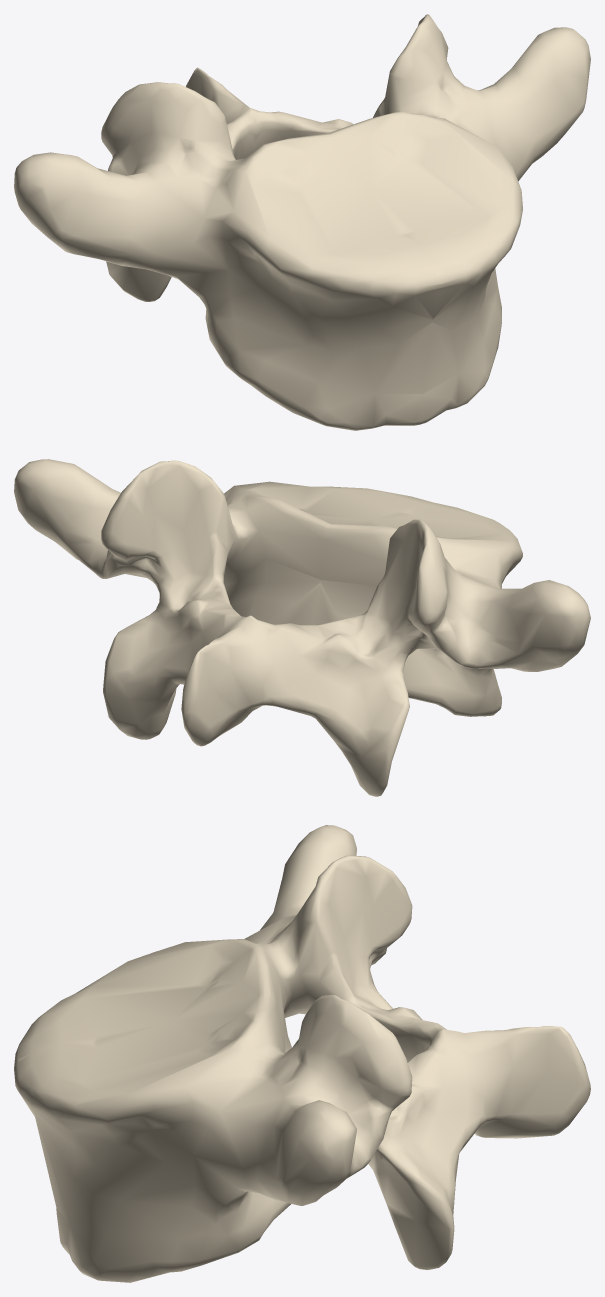
Rendered from vertebra-l5.glb.
3 renders of one model, top to bottom at view 1: azimuth 30°, elevation 25°; view 2: azimuth 150°, elevation 25°; view 3: azimuth 270°, elevation 25°, orthographic. The views are drawn at different scales.
Visible parts, largest first — view 1: Vertebra L5; view 2: Vertebra L5; view 3: Vertebra L5.
Boxes of the visible parts, x1,y1,x2,y2 form: Vertebra L5: (14, 14, 590, 430); Vertebra L5: (14, 459, 590, 796); Vertebra L5: (14, 825, 590, 1282).
Size of the model in its own units: 0.1058 by 0.0504 by 0.0827.
